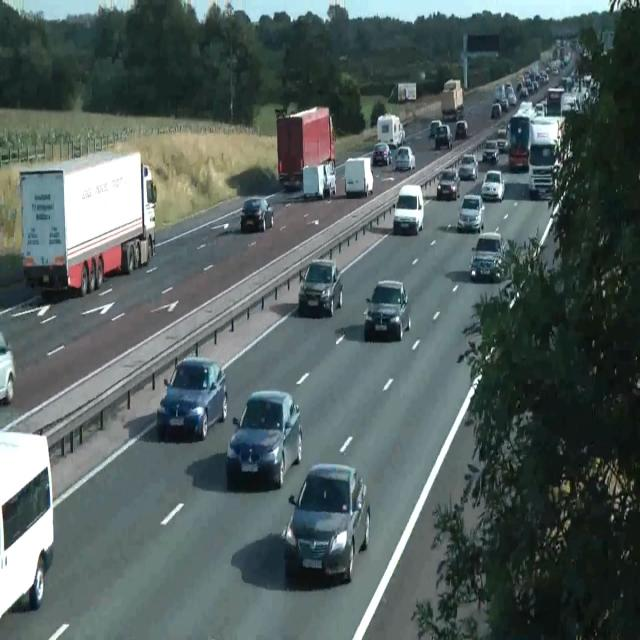bus: (281, 462, 371, 584), (226, 389, 302, 489), (156, 355, 228, 441), (362, 279, 410, 341), (298, 259, 343, 317), (240, 196, 274, 232), (498, 275, 532, 310), (0, 330, 16, 404), (481, 169, 505, 202), (436, 167, 460, 200), (508, 142, 529, 172), (394, 146, 416, 172), (458, 154, 478, 180), (372, 142, 392, 166), (482, 138, 499, 164), (495, 85, 509, 111), (496, 127, 508, 153), (428, 119, 442, 138), (455, 120, 468, 140), (491, 102, 501, 118), (338, 54, 348, 62)
jeep: (469, 230, 505, 282), (528, 141, 558, 199), (392, 183, 424, 235), (456, 193, 484, 233), (434, 124, 452, 150)
minibus: (19, 149, 157, 297), (0, 428, 54, 618), (274, 105, 336, 194), (344, 156, 374, 198), (302, 163, 336, 199), (376, 113, 405, 148), (441, 78, 464, 121), (388, 82, 417, 103)
